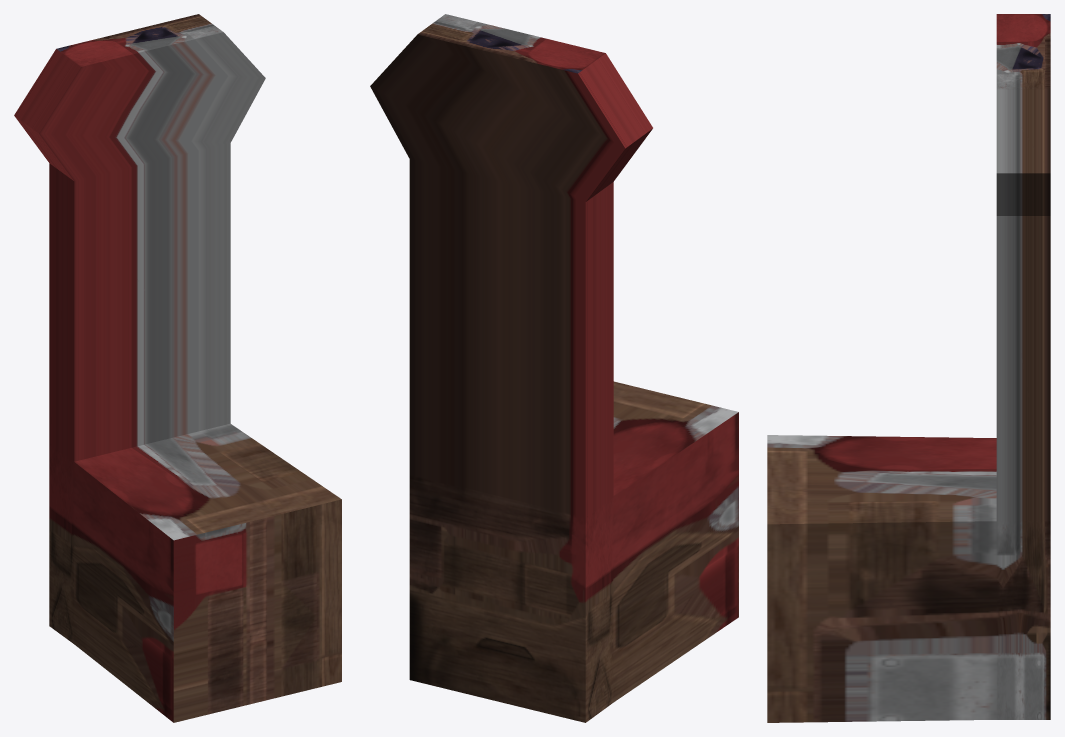
Rendered from sb_obj_DemonsCastle009_chair01_col.fbx.
3 renders of one model, left to right at view 1: azimuth 30°, elevation 25°; view 2: azimuth 150°, elevation 25°; view 3: azimuth 270°, elevation 25°, orthographic. The views are drawn at different scales.
Visible parts, largest first — view 1: sb_obj_DemonsCastle009_chair01_col; view 2: sb_obj_DemonsCastle009_chair01_col; view 3: sb_obj_DemonsCastle009_chair01_col.
Boxes of the visible parts, x1,y1,x2,y2 form: sb_obj_DemonsCastle009_chair01_col: (14, 14, 341, 722); sb_obj_DemonsCastle009_chair01_col: (370, 14, 738, 722); sb_obj_DemonsCastle009_chair01_col: (767, 14, 1050, 722).
Bounding box in the file's own units: 0.5522 × 1.34 × 0.549.
